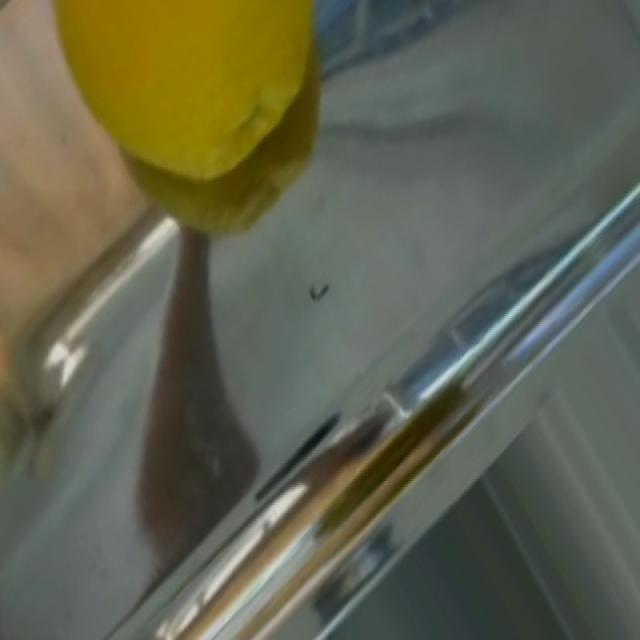Fruit: (0, 0, 348, 187)
